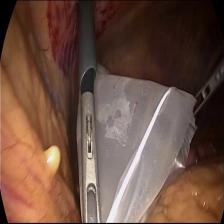Grasper: (80, 93, 102, 224), (191, 61, 224, 124)
Specimen Bag: (74, 57, 198, 224)
